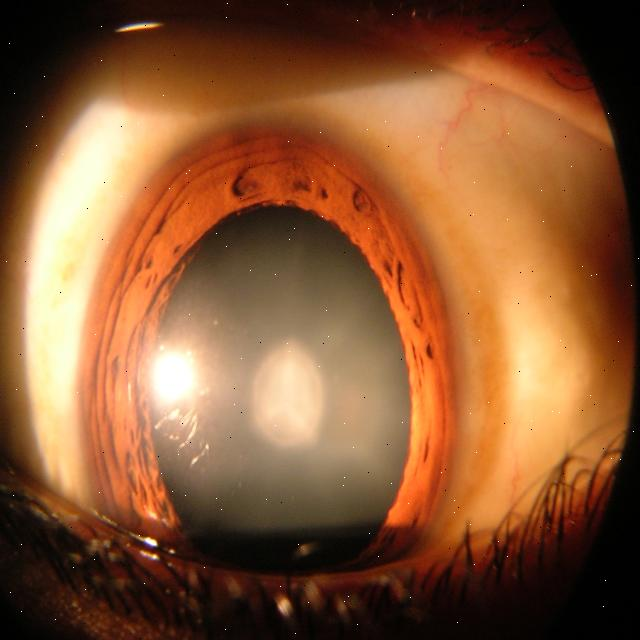Cataract: (77, 120, 458, 640)
